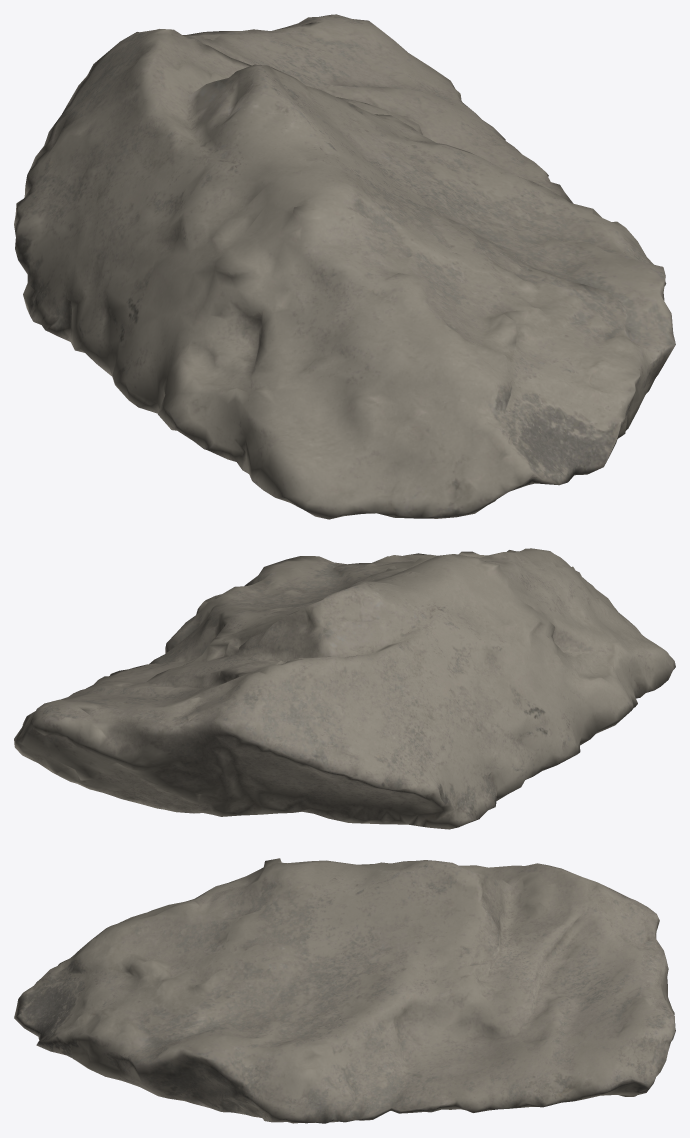
The model's file is moon_rock_04.glb.
3 renders of one model, top to bottom at view 1: azimuth 30°, elevation 25°; view 2: azimuth 150°, elevation 25°; view 3: azimuth 270°, elevation 25°, orthographic. The views are drawn at different scales.
Visible parts, largest first — view 1: moon_rock_04_LOD0; view 2: moon_rock_04_LOD0; view 3: moon_rock_04_LOD0.
Part boxes in pixels (bbox=[...]): moon_rock_04_LOD0: bbox=[14, 14, 675, 519]; moon_rock_04_LOD0: bbox=[14, 548, 675, 829]; moon_rock_04_LOD0: bbox=[14, 858, 675, 1123].
Size of the model in its own units: 0.1198 by 0.0538 by 0.1738.
Materials: 1 (1 with a texture image).
